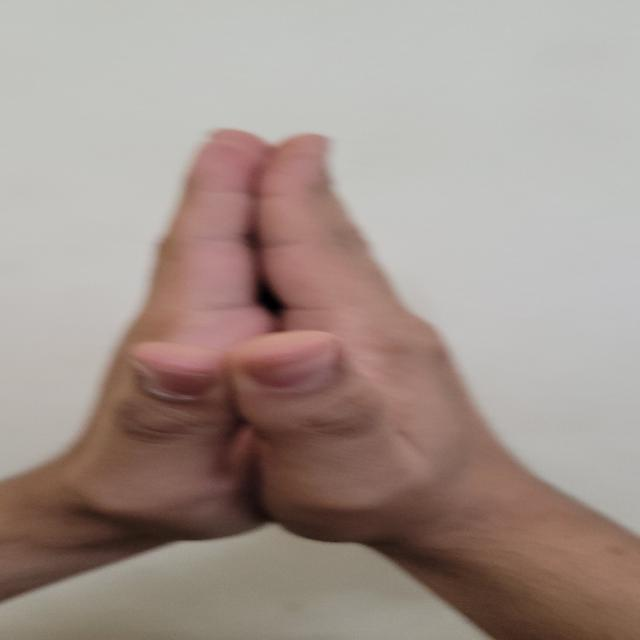Thank You: (86, 110, 533, 571)
